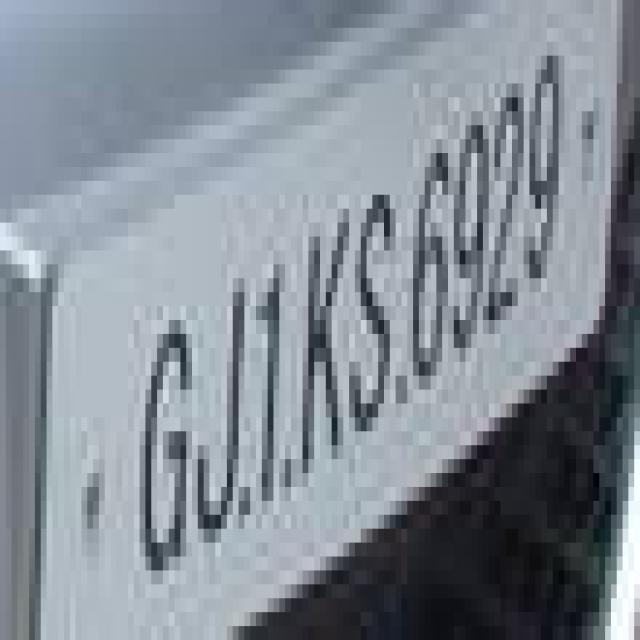plate: (29, 28, 634, 598)
